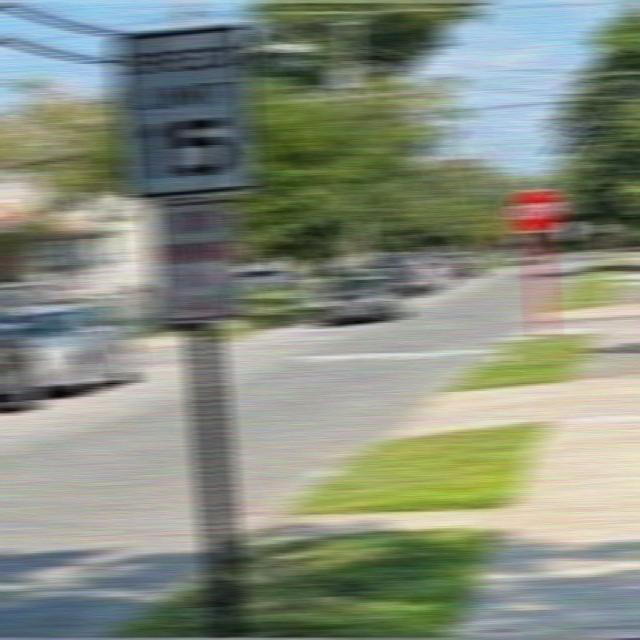speedLimit15: (109, 19, 258, 194)
